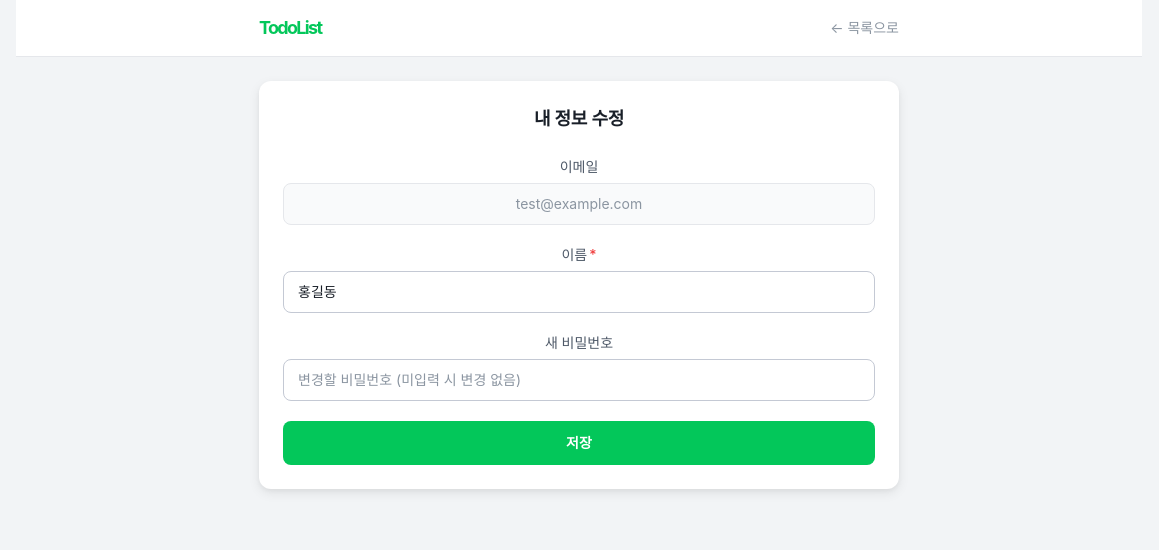
it: ProfilePage › API 에러 시 에러 메시지를 표시한다
The width and height of the screenshot is (1159, 550).
Expected: the field showing "홍길동" is shown, 283,271 -> 875,313
Click the button "저장" at (579, 443), box 283,421 -> 875,465
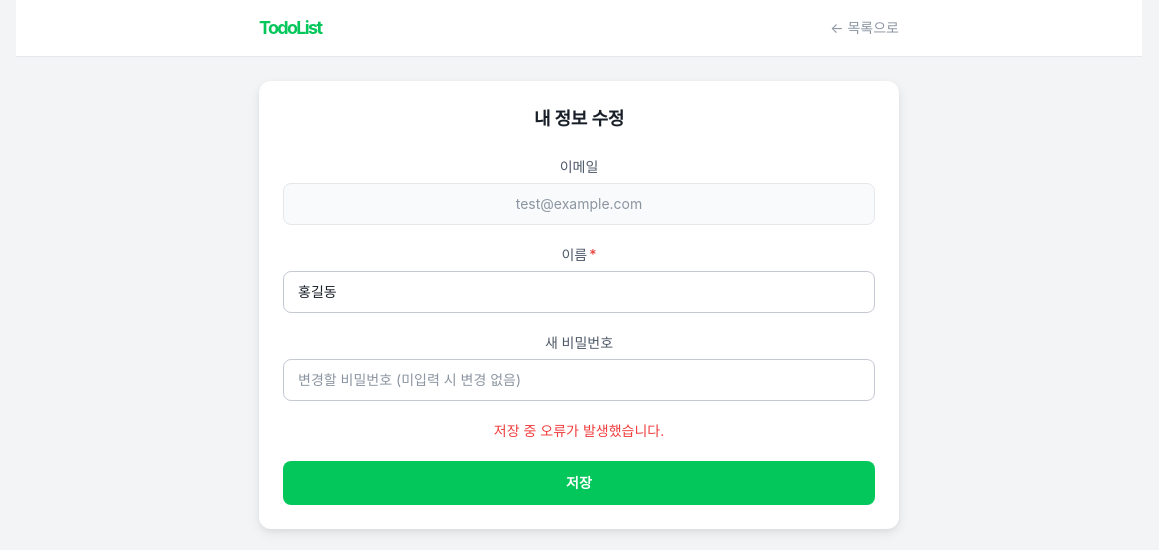
Expected: the text "저장 중 오류가 발생했습니다." is shown, 494,422 -> 664,439
